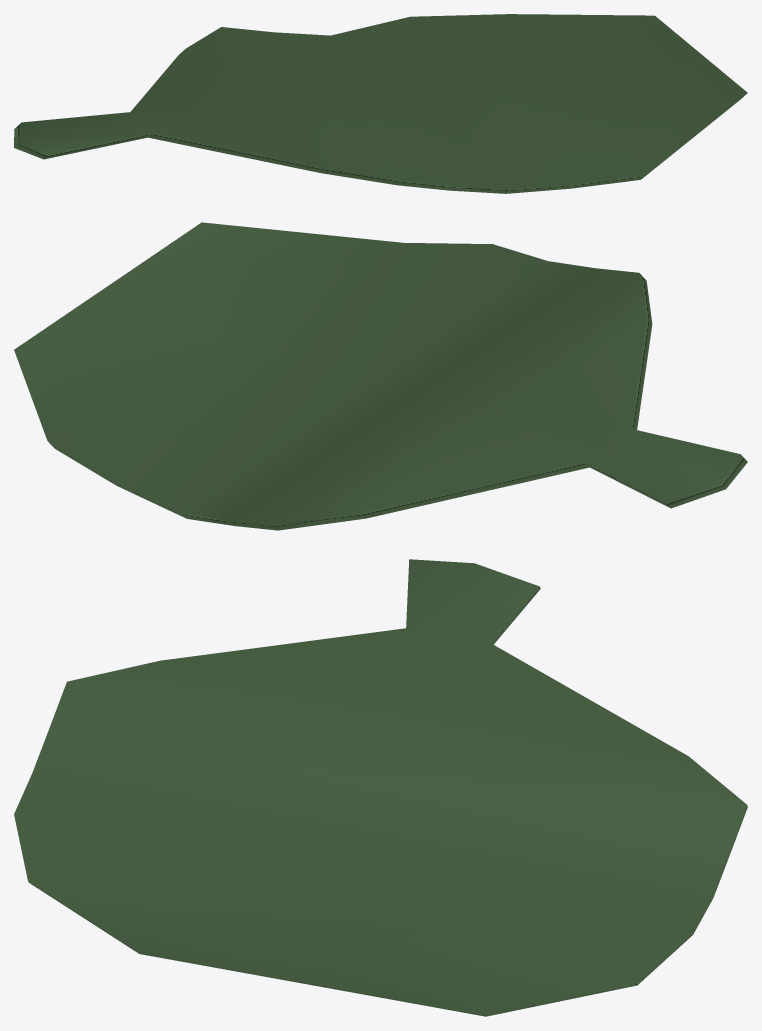
The model's file is SM_LettuceLeaf1.fbx.
3 views of the same model, one above another, from view 1: azimuth 30°, elevation 25°; view 2: azimuth 150°, elevation 25°; view 3: azimuth 270°, elevation 25° (orthographic). The views are drawn at different scales.
Visible parts, largest first — view 1: LettuceLeaf1; view 2: LettuceLeaf1; view 3: LettuceLeaf1.
Part boxes in pixels (x1,y1,x2,y2): LettuceLeaf1: (14, 14, 747, 193); LettuceLeaf1: (14, 222, 747, 530); LettuceLeaf1: (14, 559, 747, 1016).
Bounding box in the file's own units: 12.93 × 1.61 × 9.71.
